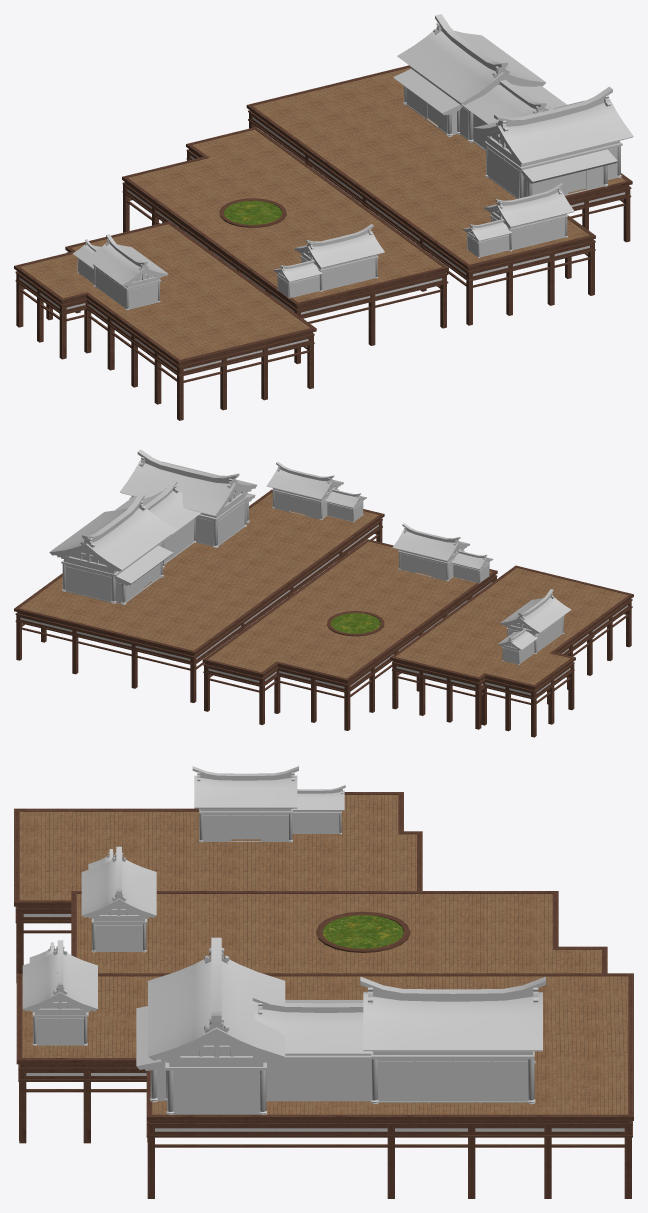
The model's file is CLX_jianzhu_05.FBX.
3 renders of one model, top to bottom at view 1: azimuth 30°, elevation 25°; view 2: azimuth 150°, elevation 25°; view 3: azimuth 270°, elevation 25°, orthographic. The views are drawn at different scales.
Parts seen in each view (by area): view 1: CLX_jianzhu_05; view 2: CLX_jianzhu_05; view 3: CLX_jianzhu_05.
Part boxes in pixels (x1,y1,x2,y2): CLX_jianzhu_05: (14,14,633,420); CLX_jianzhu_05: (14,449,633,737); CLX_jianzhu_05: (14,766,633,1198).
Size of the model in its own units: 89.71 by 25.5 by 65.22.
